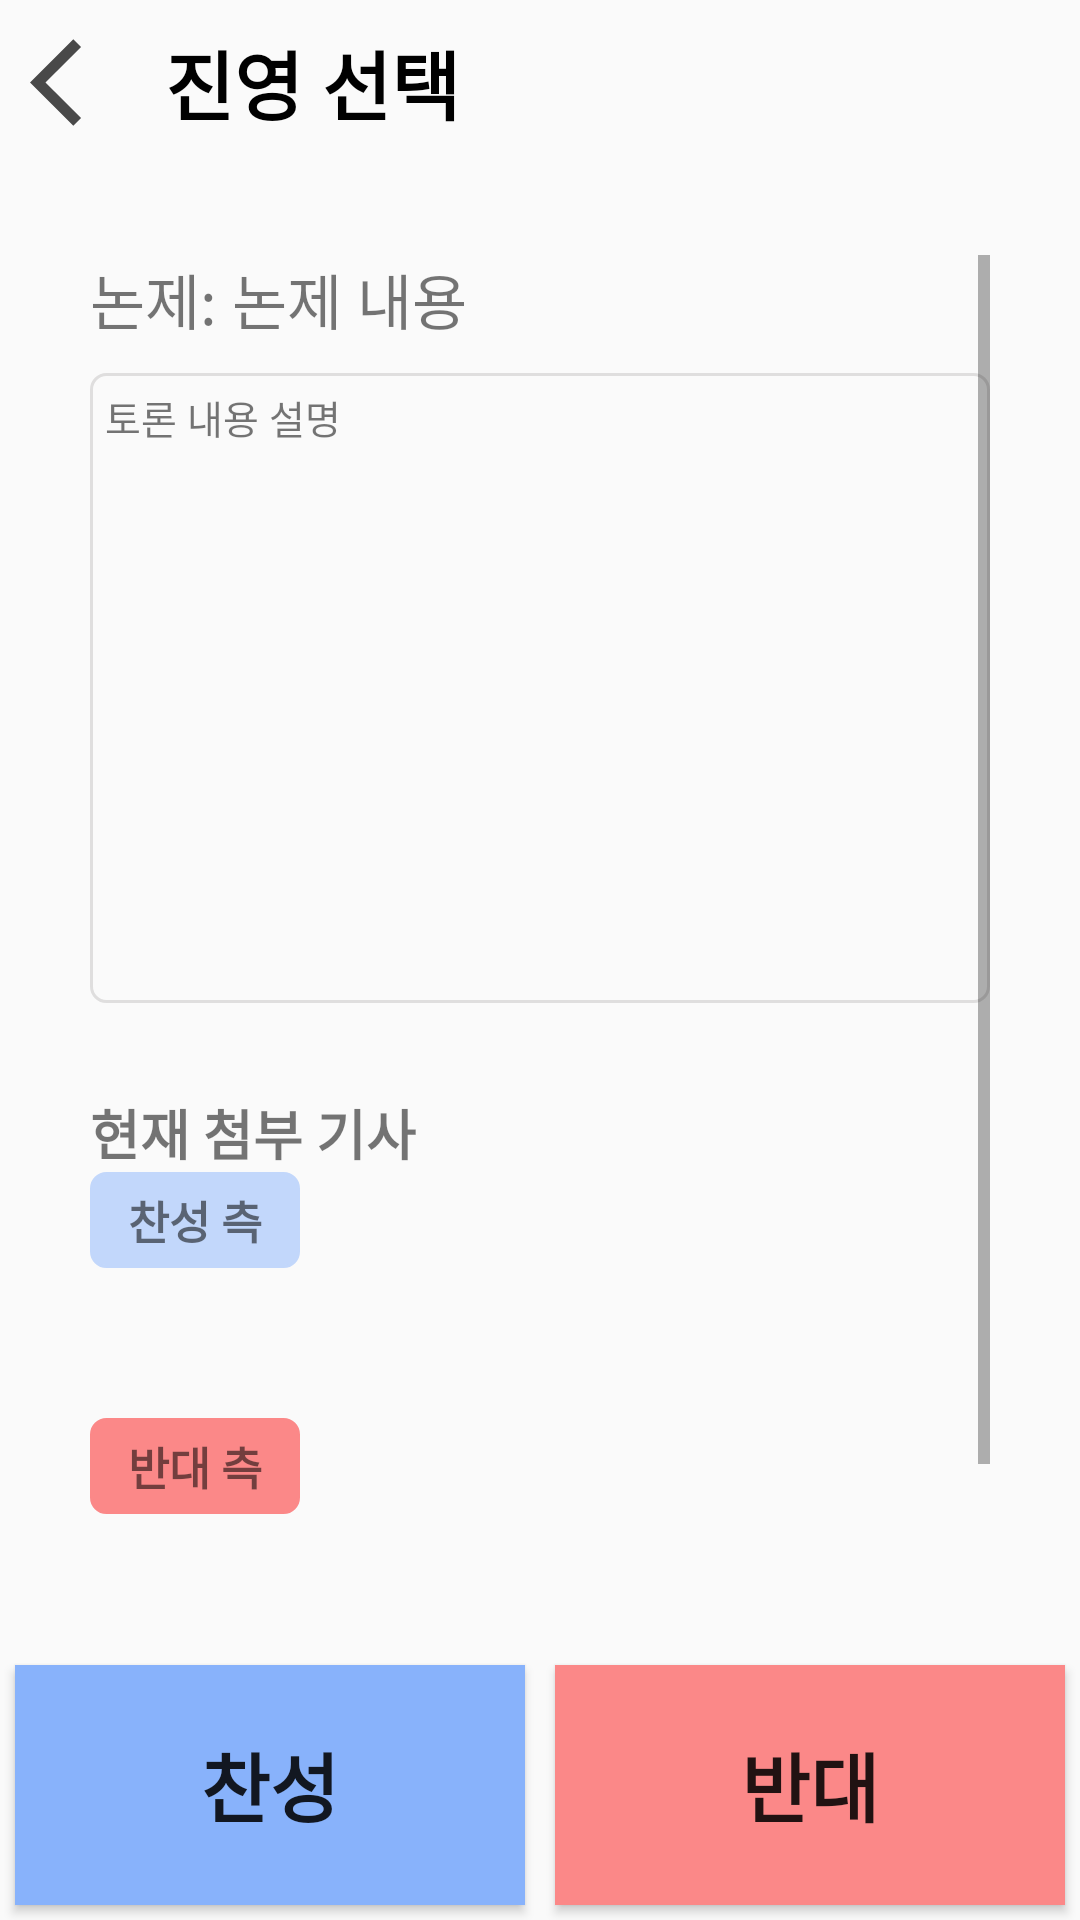

Screen size 1080px×1920px. Icon name, then its box in pixels as {"left": x1, "top": y1, "right": x2, "bottom": y2}:
arrow back: {"left": 30, "top": 39, "right": 81, "bottom": 126}
